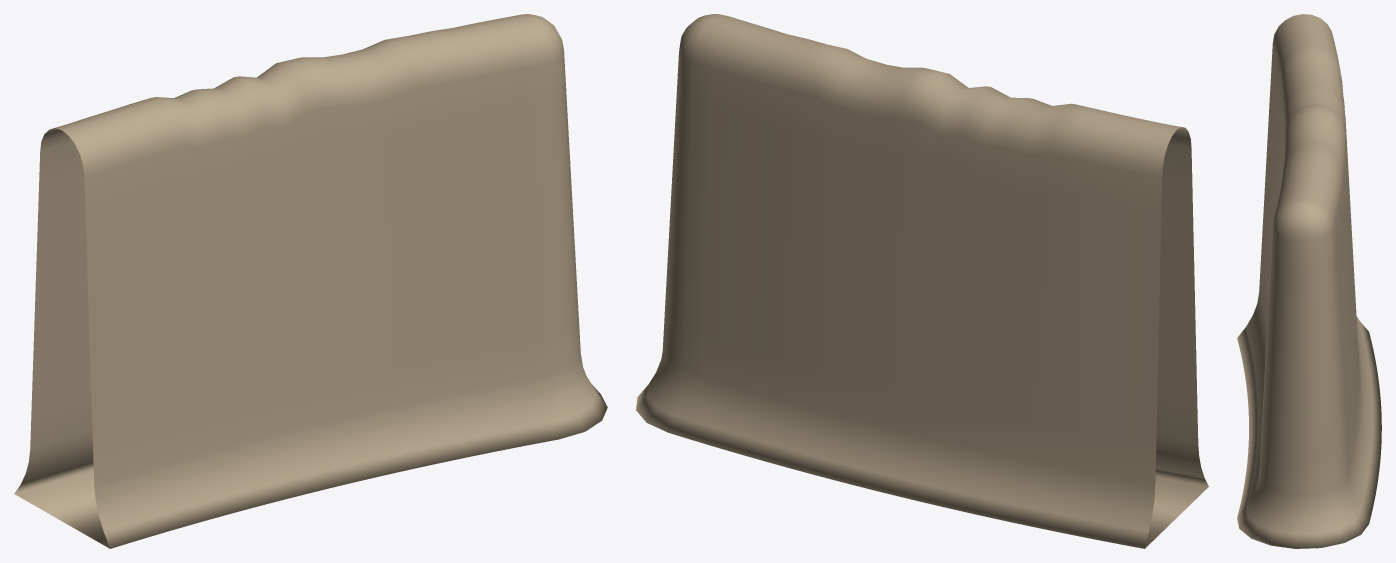
The model's file is KFB_Wall_curved_ring_r5_capA.r1.glb.
3 views of the same model, side by side, from view 1: azimuth 30°, elevation 25°; view 2: azimuth 150°, elevation 25°; view 3: azimuth 270°, elevation 25° (orthographic). The views are drawn at different scales.
Visible parts, largest first — view 1: KFB_Wall_curved_ring_r5_capA; view 2: KFB_Wall_curved_ring_r5_capA; view 3: KFB_Wall_curved_ring_r5_capA.
Part boxes in pixels (x1,y1,x2,y2): KFB_Wall_curved_ring_r5_capA: (14, 14, 607, 548); KFB_Wall_curved_ring_r5_capA: (636, 14, 1208, 548); KFB_Wall_curved_ring_r5_capA: (1237, 14, 1381, 548).
Size of the model in its own units: 5.22 by 3.63 by 1.47.
